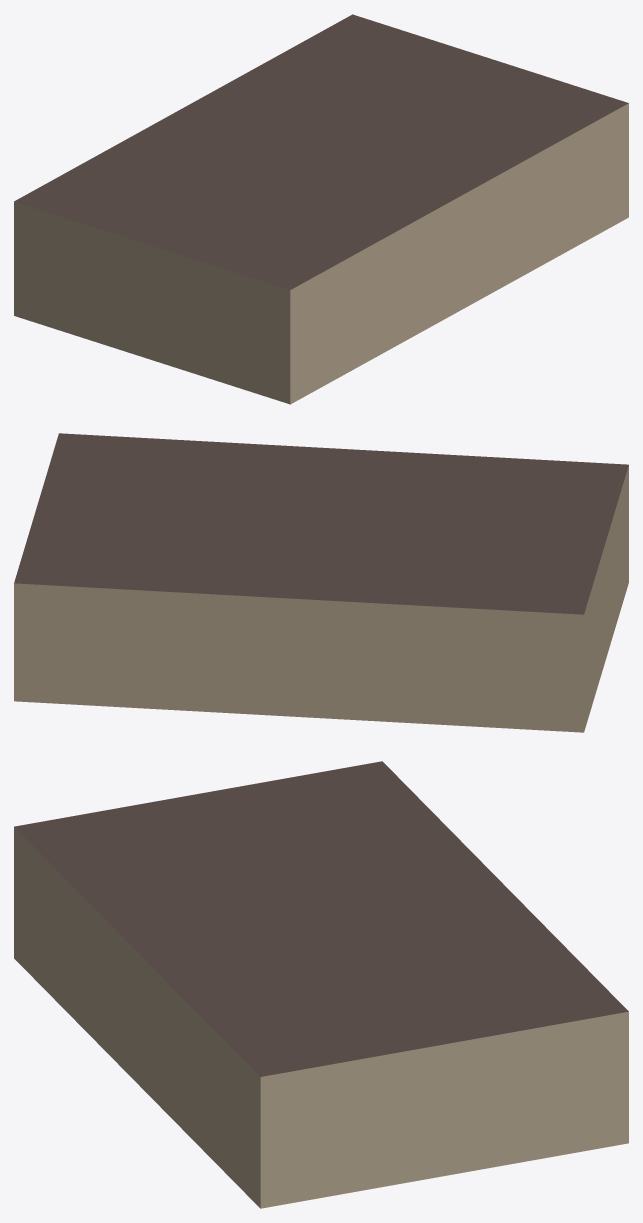
The picture shows the model from 3 angles, top to bottom: view 1: azimuth 30°, elevation 25°; view 2: azimuth 150°, elevation 25°; view 3: azimuth 270°, elevation 25°; orthographic projection. The views are drawn at different scales.
Visible parts, largest first — view 1: HP-w369342488; view 2: HP-w369342488; view 3: HP-w369342488.
Part boxes in pixels (bbox=[...]): HP-w369342488: bbox=[14, 14, 628, 404]; HP-w369342488: bbox=[14, 433, 628, 732]; HP-w369342488: bbox=[14, 761, 628, 1208].
Bounding box in the file's own units: 46.28 × 9 × 38.08.
